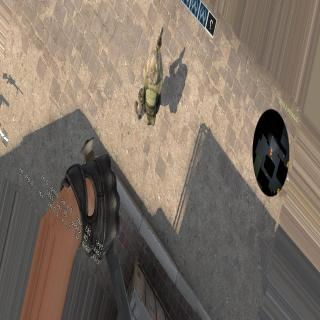CT-Body: (134, 28, 168, 123)
CT-Head: (145, 50, 163, 85)
